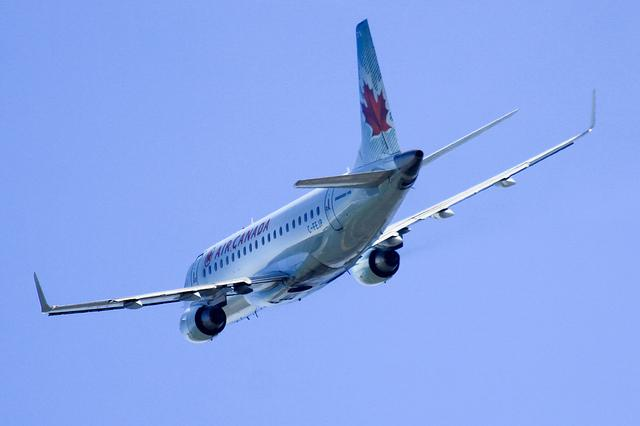airplane: (32, 17, 598, 345)
